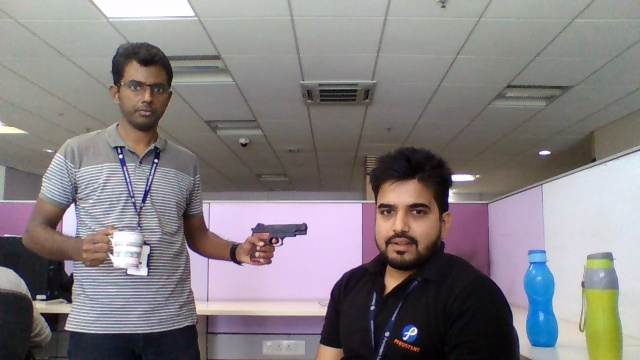gun: (250, 222, 307, 236)
